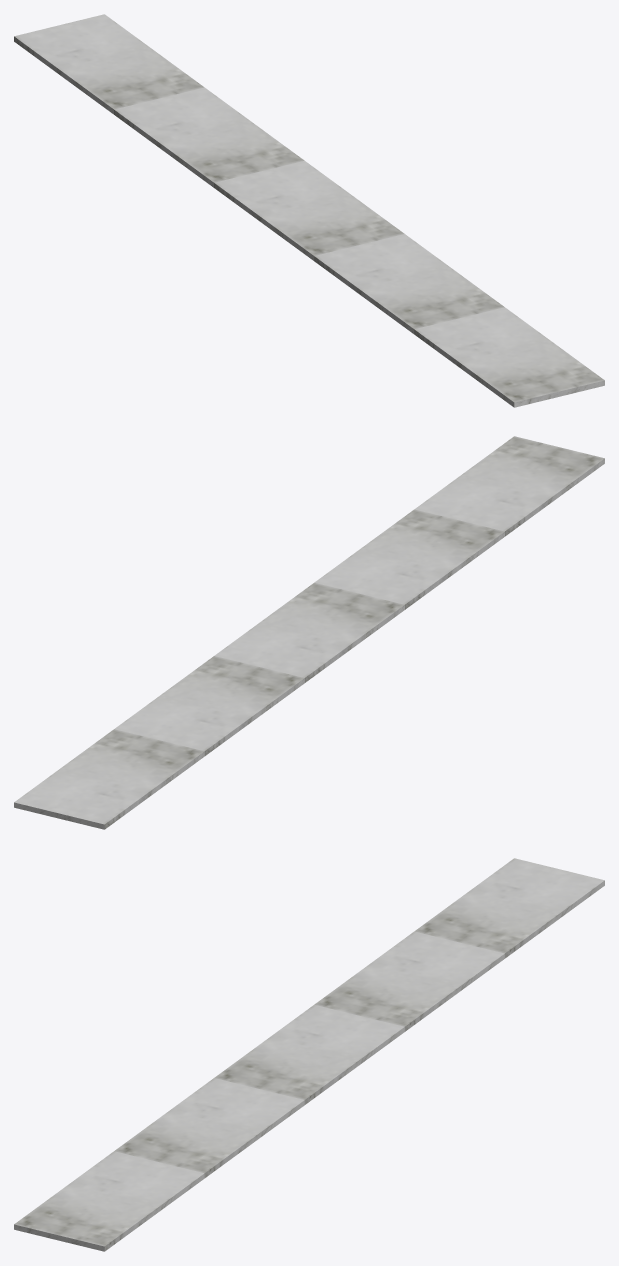
The model's file is z_wall_corridor_cieling_01.fbx.
The picture shows the model from 3 angles, top to bottom: view 1: azimuth 30°, elevation 25°; view 2: azimuth 150°, elevation 25°; view 3: azimuth 330°, elevation 25°; orthographic projection.
Visible parts, largest first — view 1: CorridorFloor9, CorridorFloor7, CorridorFloor8, CorridorFloor5, CorridorFloor6; view 2: CorridorFloor5, CorridorFloor7, CorridorFloor6, CorridorFloor9, CorridorFloor8; view 3: CorridorFloor9, CorridorFloor7, CorridorFloor8, CorridorFloor5, CorridorFloor6.
Part boxes in pixels (left/top/right/bottom): CorridorFloor9: left=414, top=307, right=604, bottom=407; CorridorFloor7: left=214, top=160, right=404, bottom=260; CorridorFloor8: left=314, top=234, right=504, bottom=333; CorridorFloor5: left=14, top=14, right=204, bottom=114; CorridorFloor6: left=114, top=87, right=304, bottom=187; CorridorFloor5: left=14, top=729, right=204, bottom=829; CorridorFloor7: left=214, top=582, right=404, bottom=682; CorridorFloor6: left=114, top=656, right=304, bottom=755; CorridorFloor9: left=414, top=436, right=604, bottom=536; CorridorFloor8: left=314, top=509, right=504, bottom=609; CorridorFloor9: left=14, top=1151, right=204, bottom=1251; CorridorFloor7: left=214, top=1004, right=404, bottom=1104; CorridorFloor8: left=114, top=1078, right=304, bottom=1177; CorridorFloor5: left=414, top=858, right=604, bottom=958; CorridorFloor6: left=314, top=931, right=504, bottom=1031.
Bounding box in the file's own units: 667 × 36.93 × 6377.
Materials: 1 (1 with a texture image).
